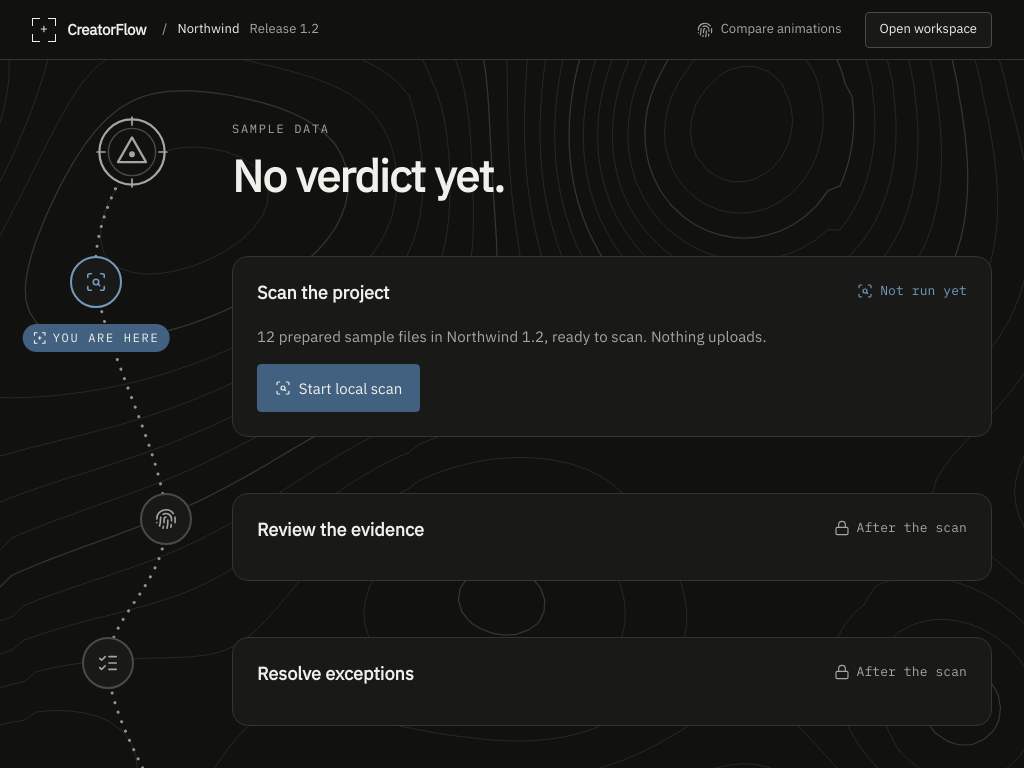
Test: ReleaseRoute › shows a progress bar, not a verdict, while the scan runs
The image size is (1024, 768).
Click the button "Start local scan". click: (338, 388)
box: [257,364,420,412]
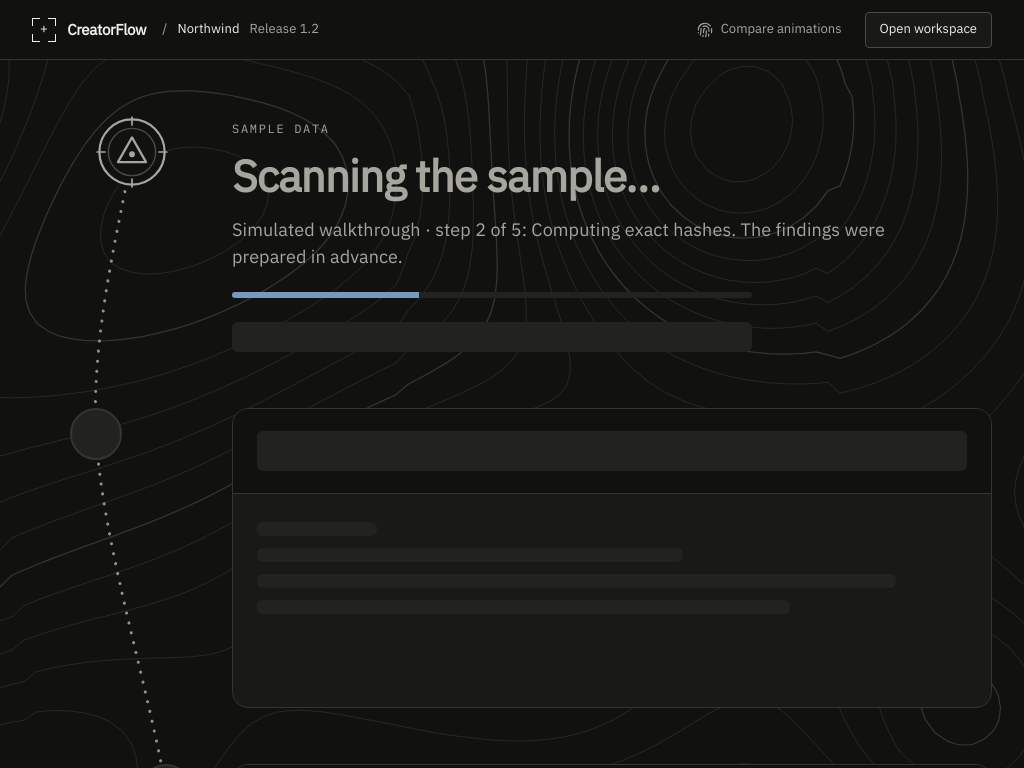
Result: the progress indicator named "Simulated scan progress" is shown at [232,292,752,298]
Result: the heading reads "Scanning the sample…" at [232,147,660,204]
